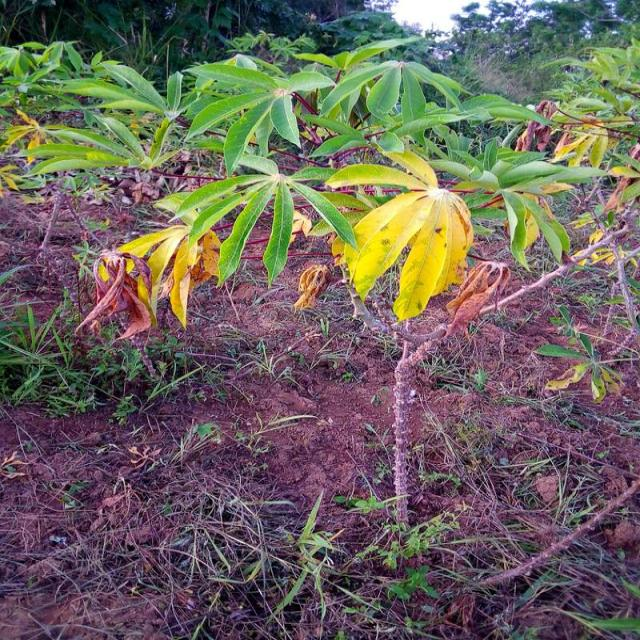cassava leaf: (326, 147, 476, 321)
